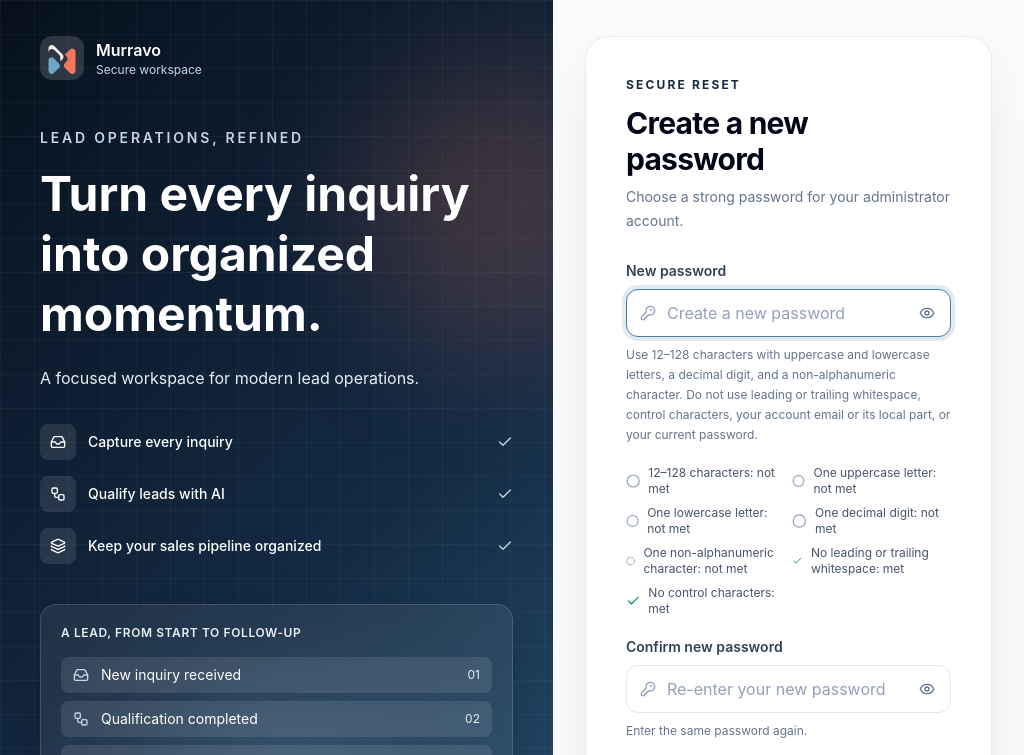
reset password token lifecycle › captures a canonical fragment once through Strict Mode, clears the URL, and submits once
Type "New-password-42!" into the password field labelled "New password" at (788, 313), box [626,289,951,337]
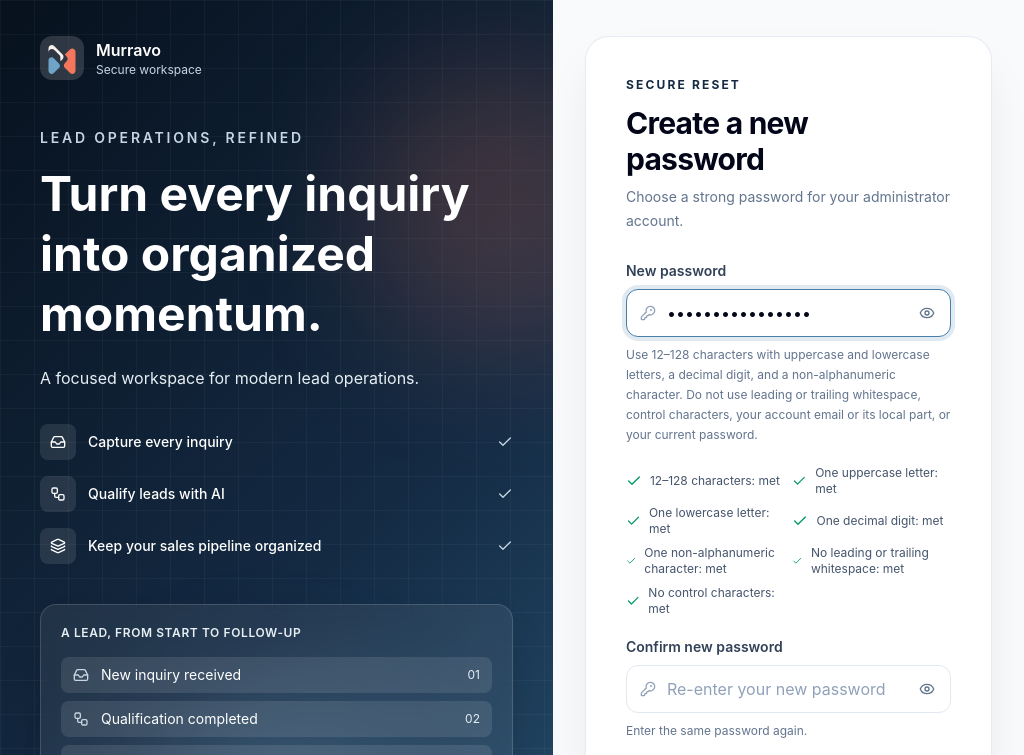
Type "New-password-42!" into the password field labelled "Confirm new password" at (788, 689), box [626,665,951,713]
(page scrolled)
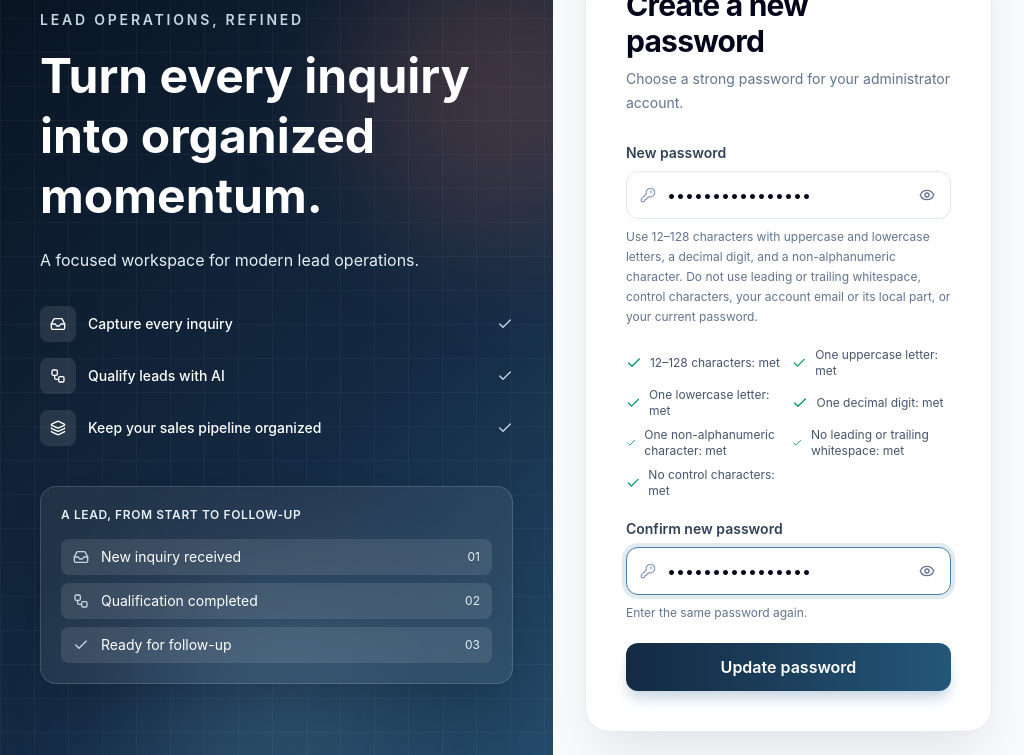
Double-click the button "Update password" at (788, 667), box [626,643,951,691]
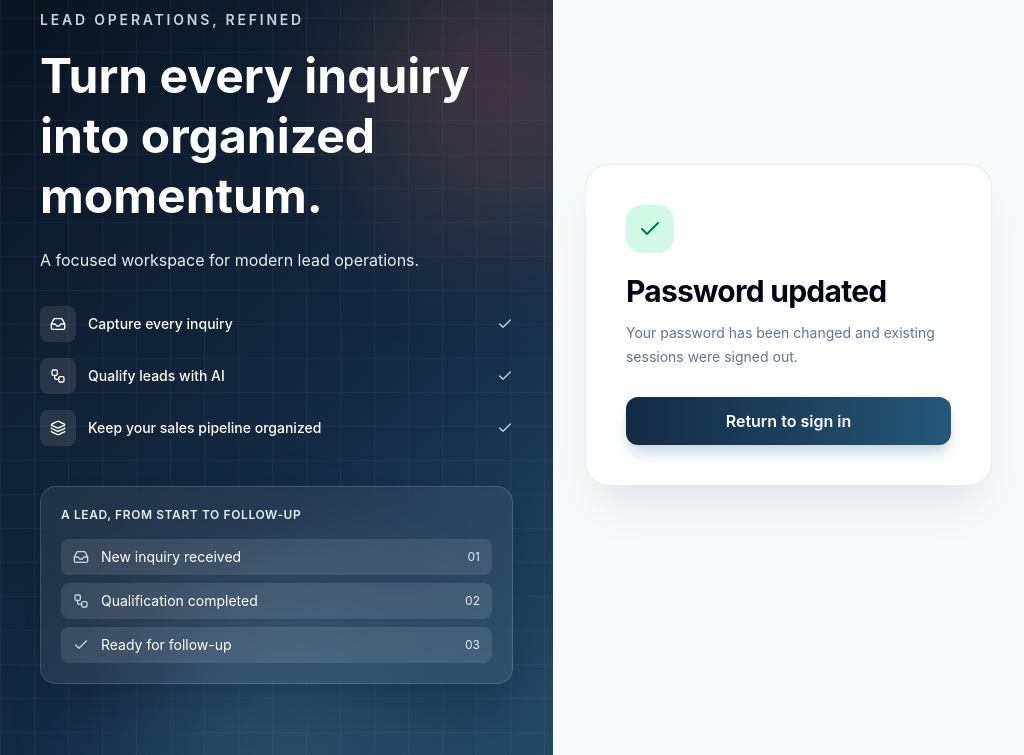
Expected: the heading "Password updated" is shown, [626,273,886,309]
